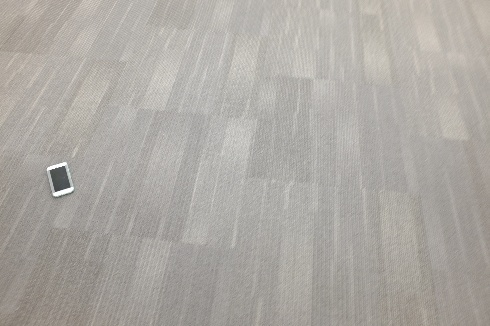phone: (34, 160, 83, 192)
